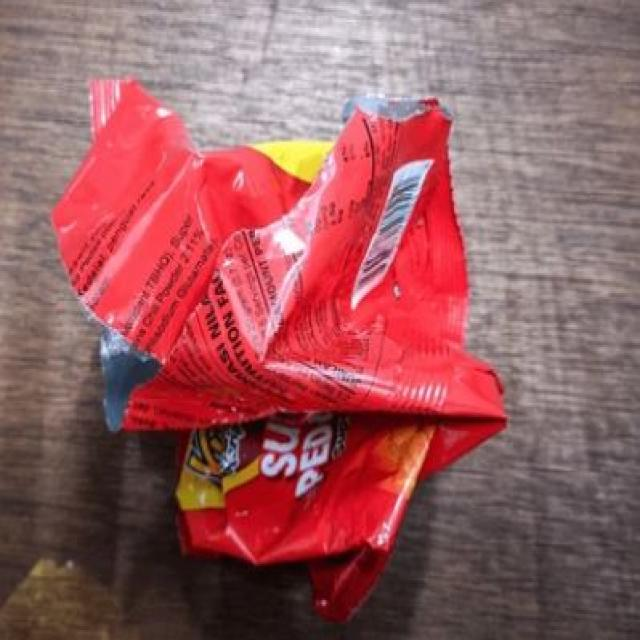electronic: (50, 74, 508, 622)
